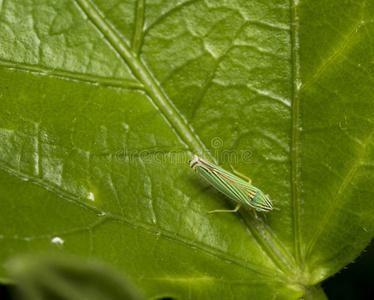Cicadellidae: (188, 153, 275, 213)
